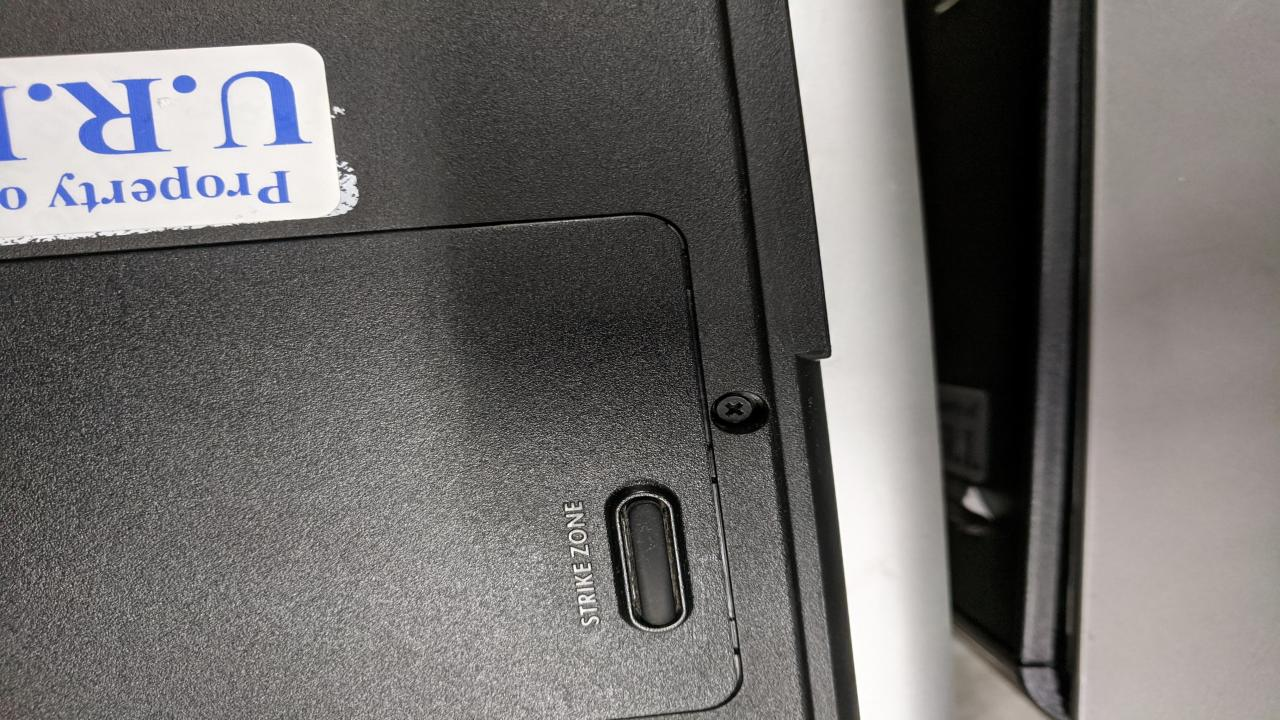CRS: (707, 393, 761, 426)
